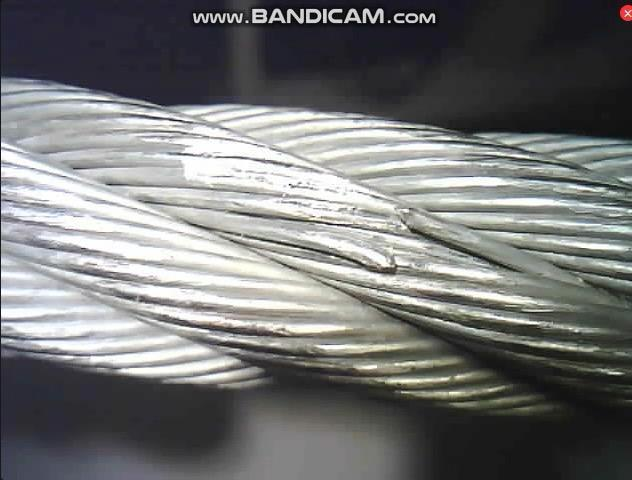break: (344, 200, 424, 276)
